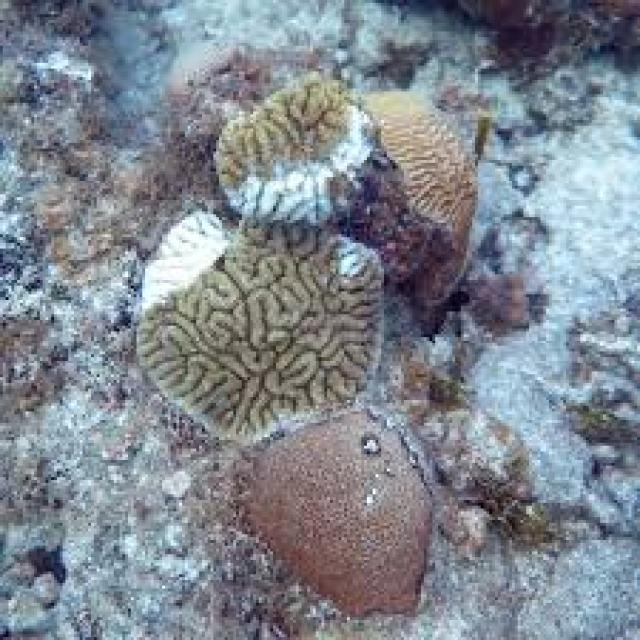Coral: (140, 208, 385, 444), (228, 411, 435, 619), (360, 87, 479, 324), (214, 71, 378, 227)
